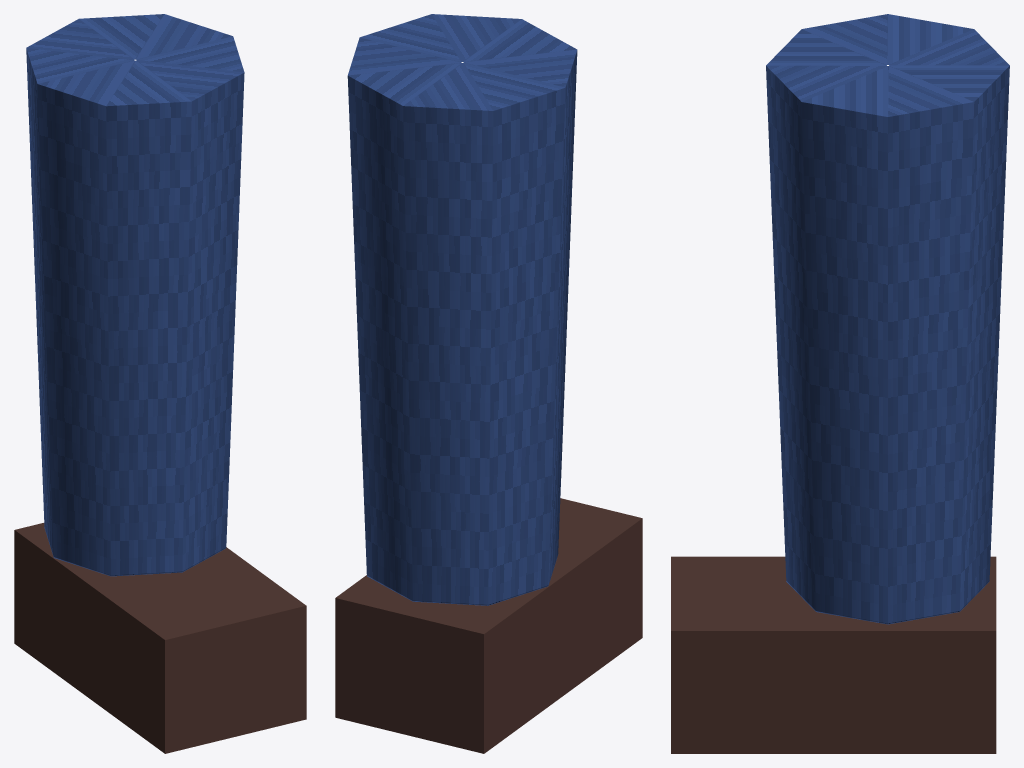
File: farmer-leg.gltf
3 views of the same model, side by side, from view 1: azimuth 30°, elevation 25°; view 2: azimuth 150°, elevation 25°; view 3: azimuth 270°, elevation 25° (orthographic). The views are drawn at different scales.
Size of the model in its own units: 0.18 by 0.53 by 0.25.
Materials: 2 (1 with a texture image).
